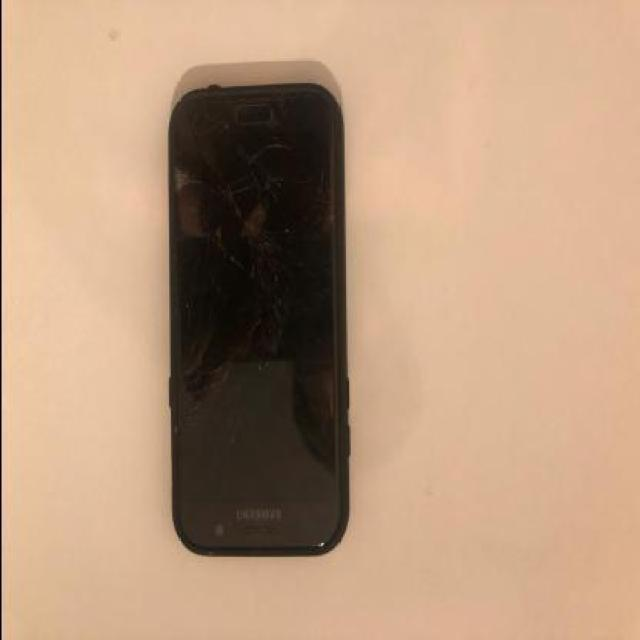phone: (168, 88, 344, 560)
